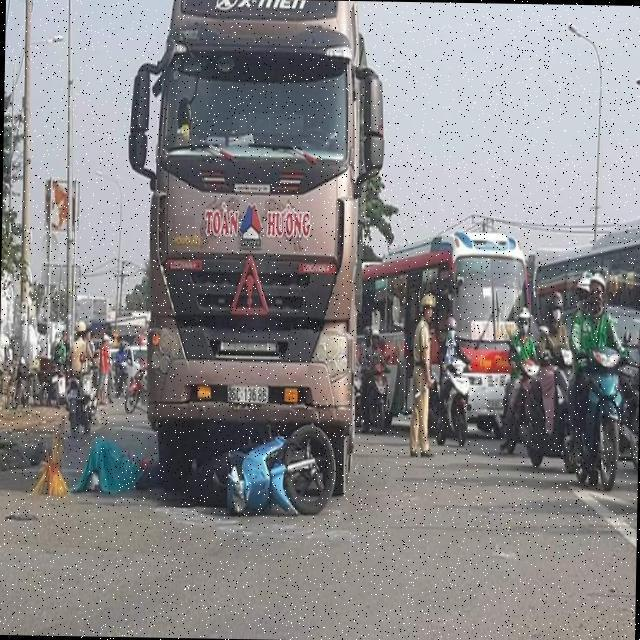accident: (164, 390, 350, 544)
